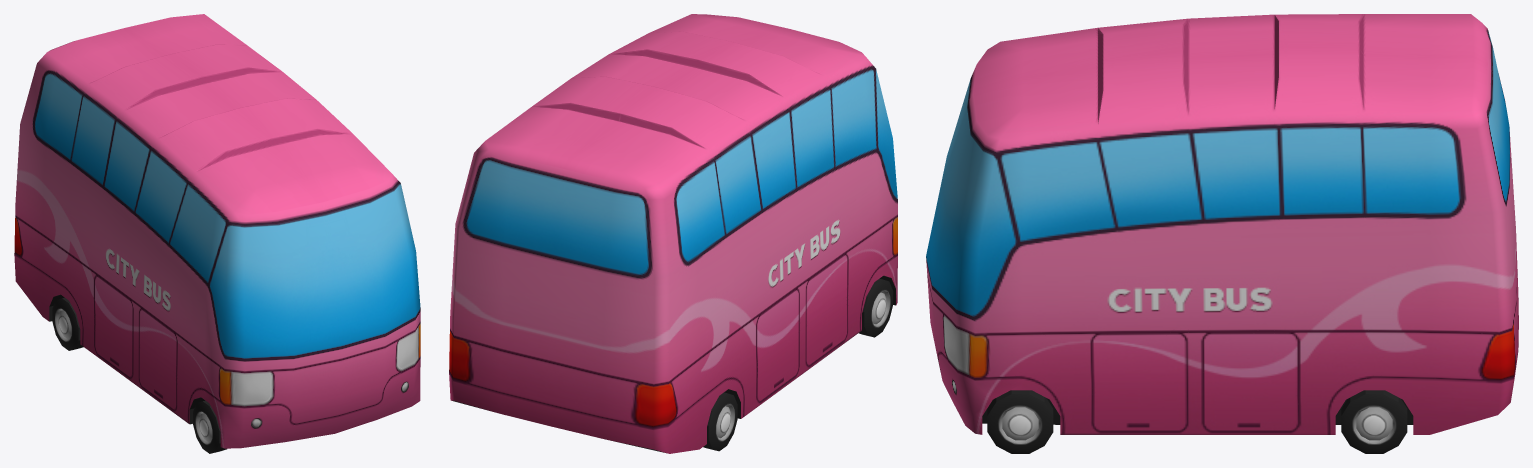
The model's file is toon-bus.glb.
The picture shows the model from 3 angles, left to right: view 1: azimuth 30°, elevation 25°; view 2: azimuth 150°, elevation 25°; view 3: azimuth 270°, elevation 25°; orthographic projection. The views are drawn at different scales.
Parts seen in each view (by area): view 1: Body, Wheel4, Wheel3; view 2: Body, Wheel3, Wheel4; view 3: Body, Wheel2, Wheel1.
Part boxes in pixels (box(x1,y1,x2,y2)): Body: box(14, 14, 420, 448); Wheel4: box(52, 297, 83, 350); Wheel3: box(193, 400, 226, 453); Body: box(449, 14, 897, 453); Wheel3: box(859, 278, 893, 337); Wheel4: box(703, 392, 737, 451); Body: box(926, 14, 1518, 434); Wheel2: box(1341, 390, 1407, 453); Wheel1: box(987, 390, 1053, 453).
Bounding box in the file's own units: 16.67 × 21.76 × 33.75.
5 materials, 5 textured.
